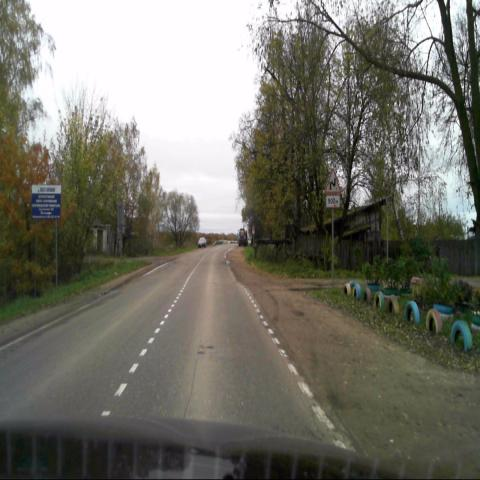1_12: (325, 167, 341, 194)
